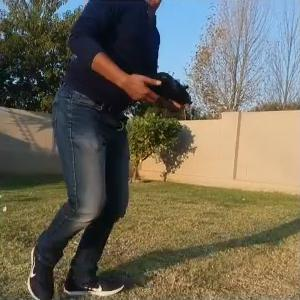follow: (31, 0, 199, 298)
